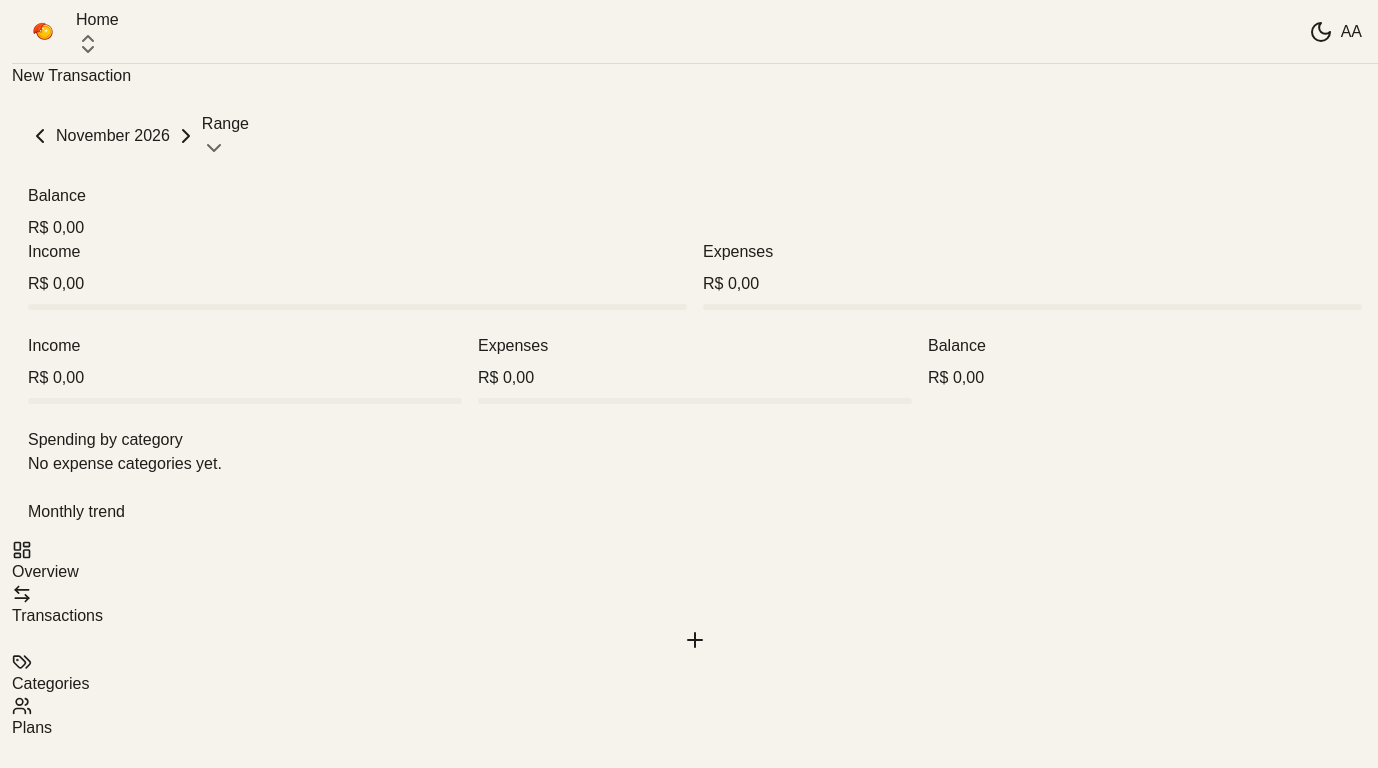
Test: MainLayout global add › switching from an EDITOR plan to a VIEWER plan hides the add without a reload (NAV-02 edge)
The image size is (1378, 768).
expect the button named "New Transaction" is shown: met, box [683, 628, 707, 652]
Click the button "Home" at x=97, y=32, box [76, 8, 119, 56]
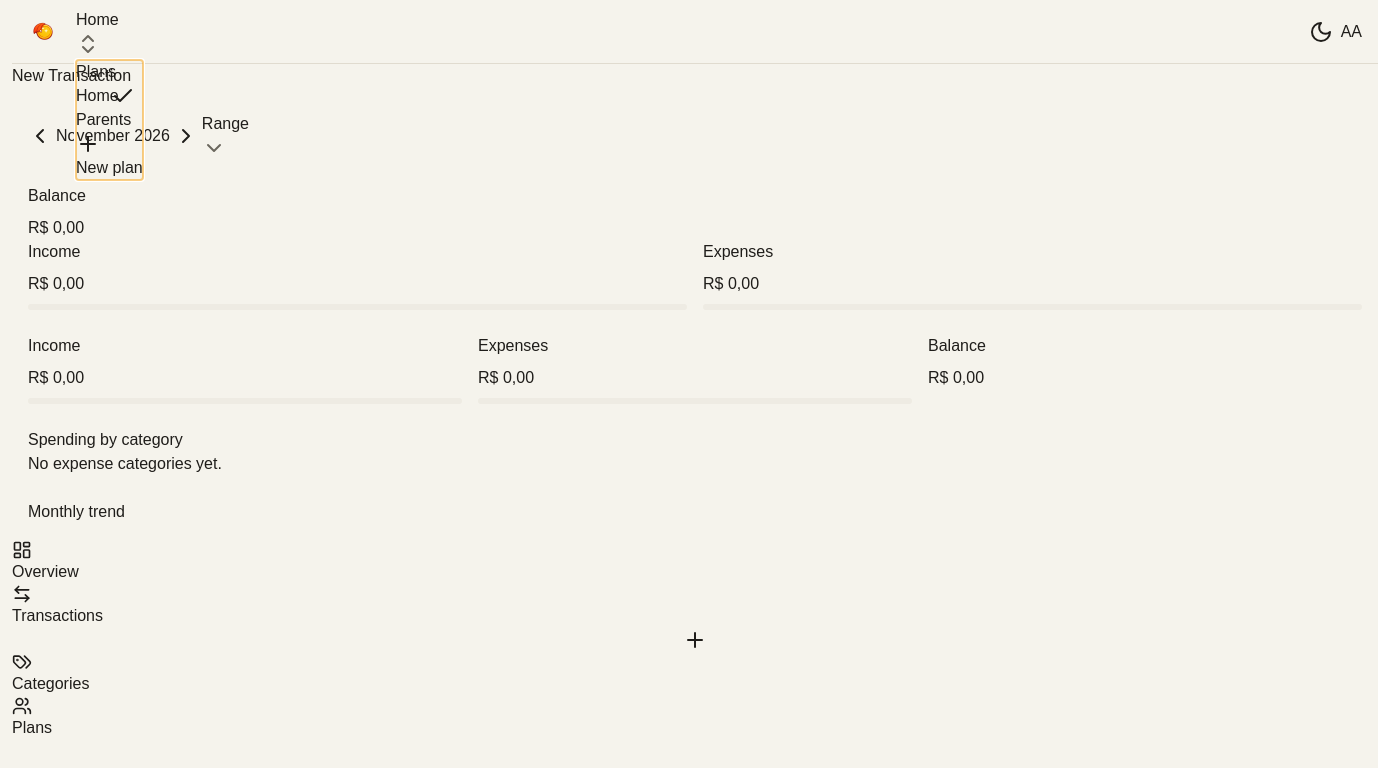
Click the menu item "Parents" at x=104, y=120, box [76, 111, 131, 128]
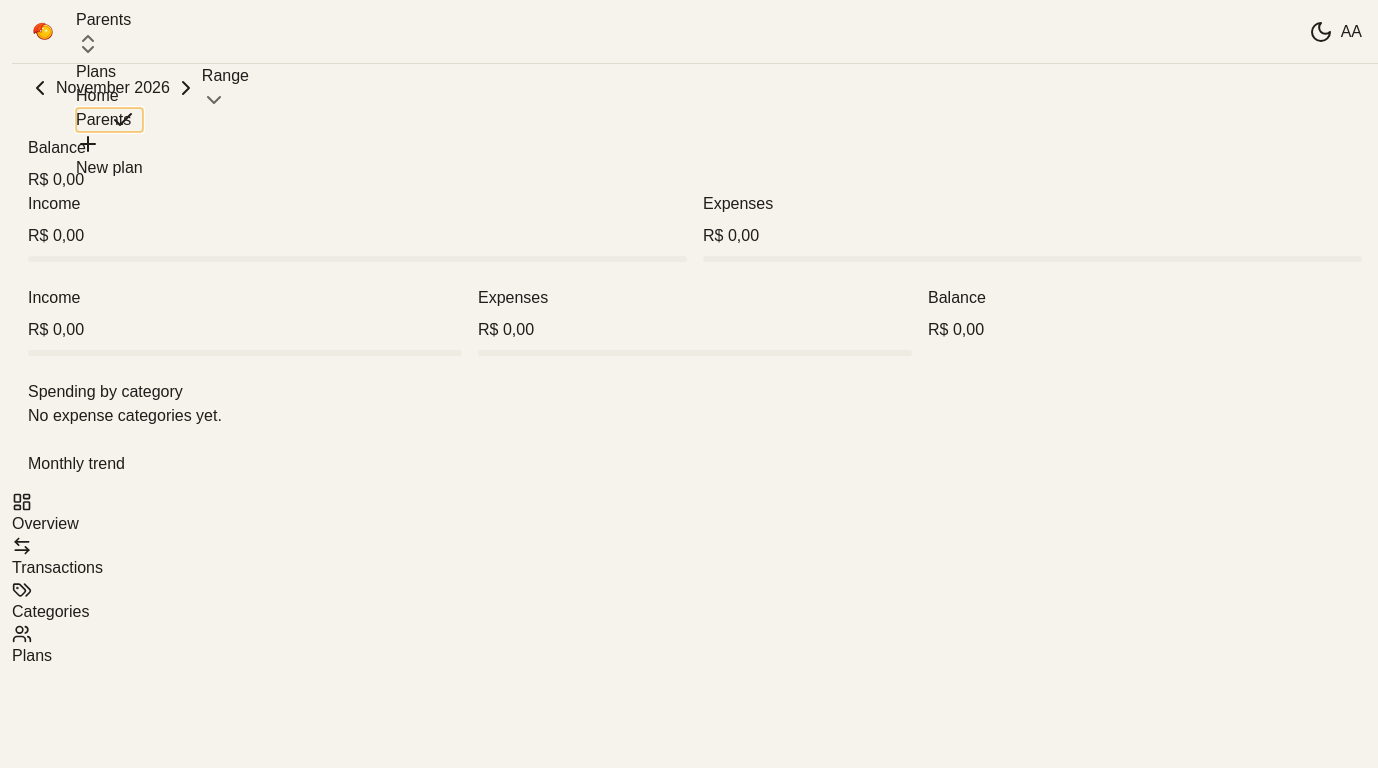
expect the button "New Transaction" is gone: met
